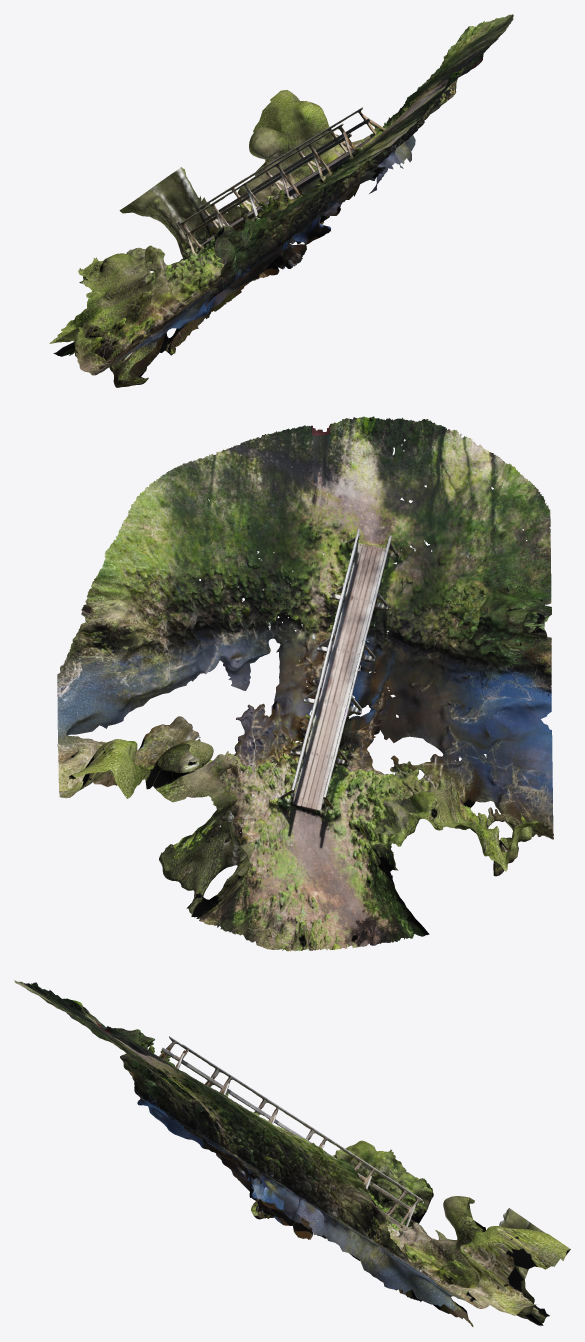
The model's file is bridge_over_a_river.glb.
The picture shows the model from 3 angles, top to bottom: view 1: azimuth 30°, elevation 25°; view 2: azimuth 150°, elevation 25°; view 3: azimuth 270°, elevation 25°; orthographic projection. The views are drawn at different scales.
Visible parts, largest first — view 1: DefaultShape_2_0 (×6); view 2: DefaultShape_2_0 (×6); view 3: DefaultShape_2_0 (×6).
Part boxes in pixels (x1,y1,x2,y2): DefaultShape_2_0 (×6): [49, 14, 513, 387]; DefaultShape_2_0 (×6): [57, 416, 553, 951]; DefaultShape_2_0 (×6): [14, 980, 570, 1326].
Bounding box in the file's own units: 1696 × 1231 × 1639.
Materials: 2 (1 with a texture image).
